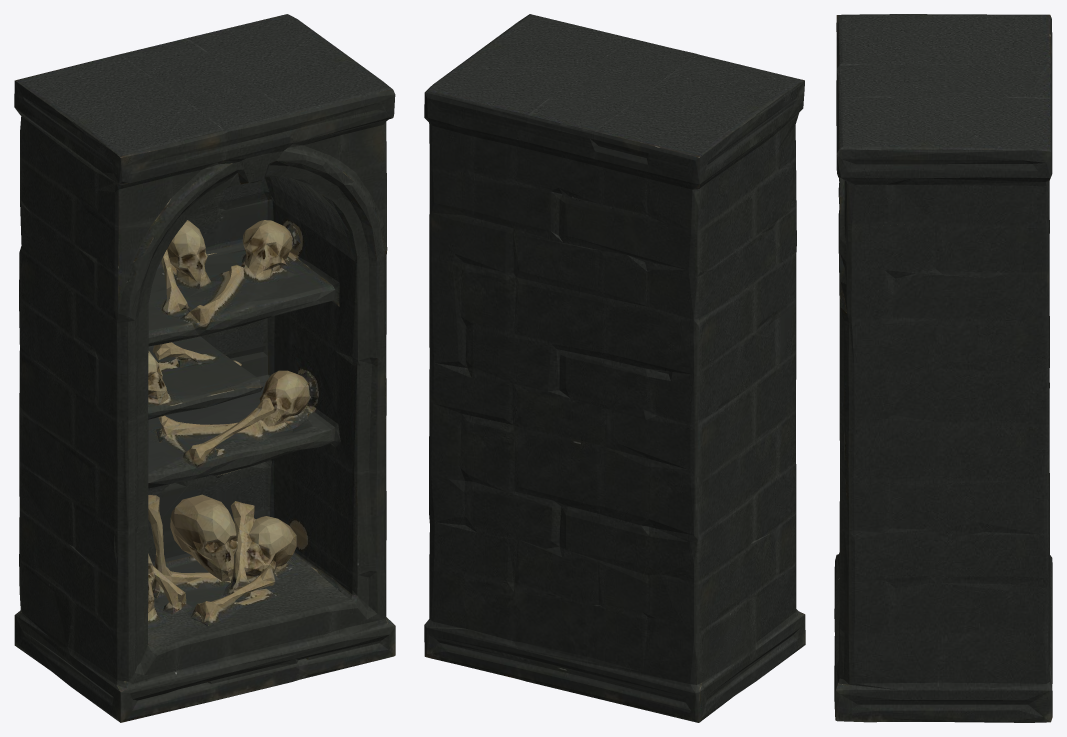
File: niche.glb
3 renders of one model, left to right at view 1: azimuth 30°, elevation 25°; view 2: azimuth 150°, elevation 25°; view 3: azimuth 270°, elevation 25°, orthographic.
Visible parts, largest first — view 1: lo; view 2: lo; view 3: lo.
Part boxes in pixels (x1,y1,x2,y2): lo: (14,14,395,722); lo: (424,14,805,722); lo: (834,14,1052,722).
Bounding box in the file's own units: 0.9989 × 1.97 × 0.6765.
1 material, 1 textured.
